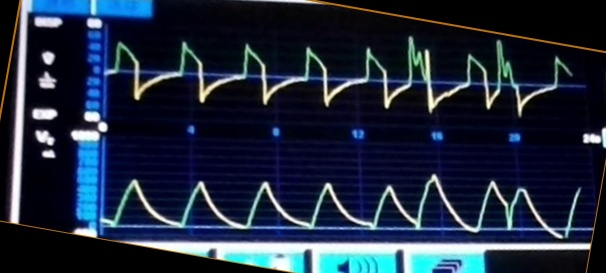Double_Triggering Flow: (116, 34, 570, 118)
Double_Triggering Volume: (103, 172, 578, 241)
